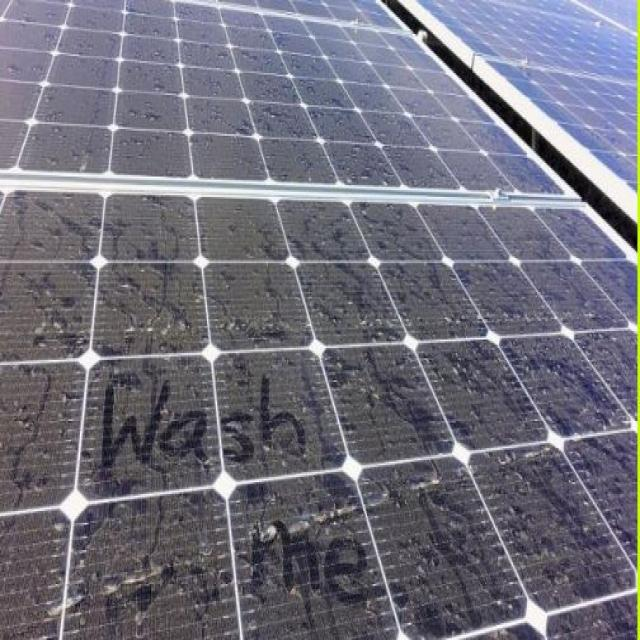faulty: (6, 195, 640, 640), (0, 0, 519, 197)
